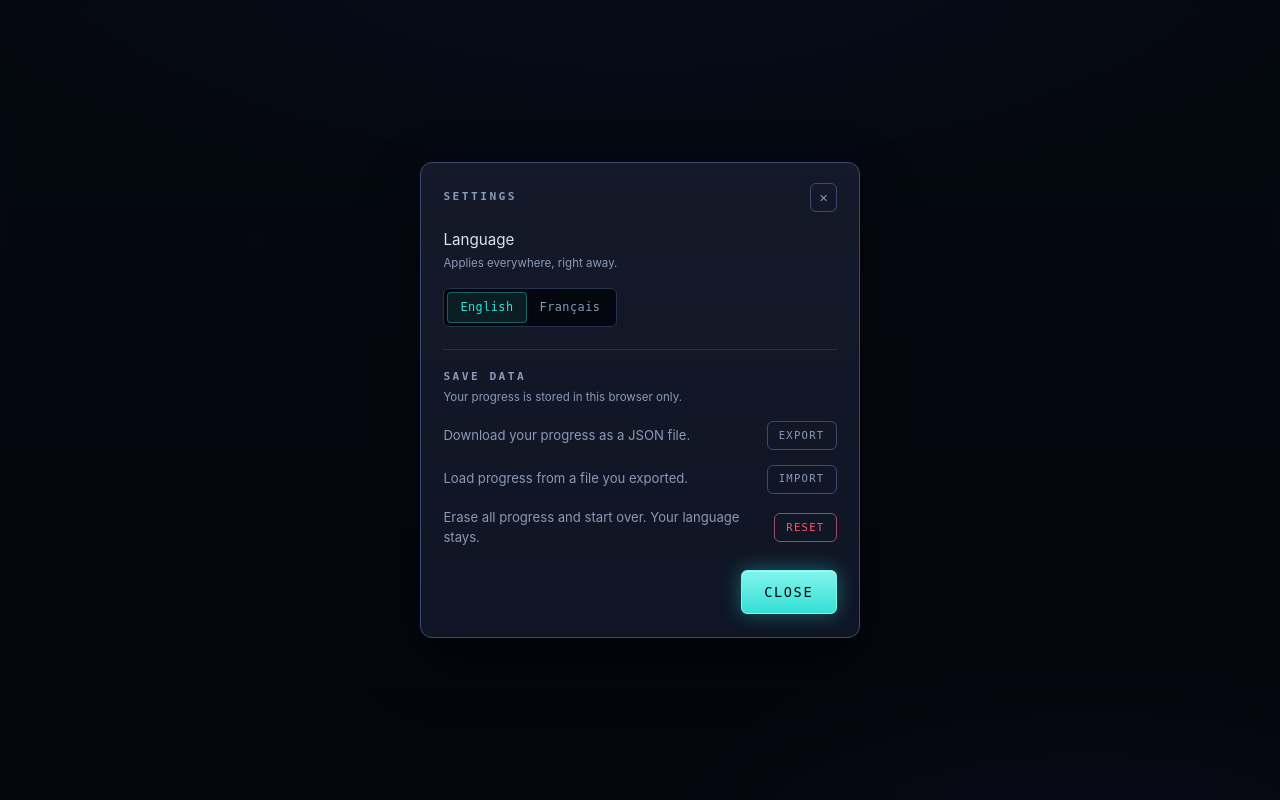
SettingsPanel — export › downloads the whole current save under a dated filename
Click the button "Export".
click(802, 436)  # box [766,421,837,450]
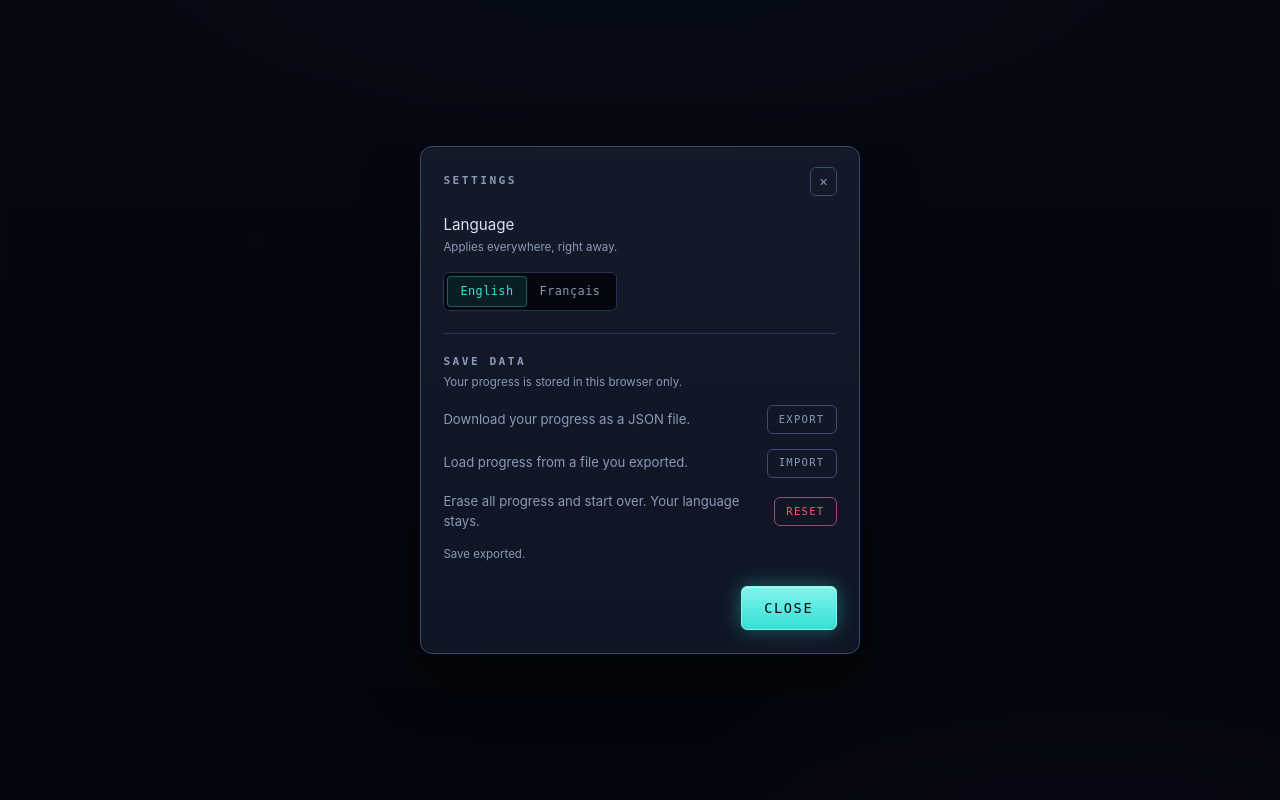
Check: the message reads "Save exported.", box [443,547,525,561]
